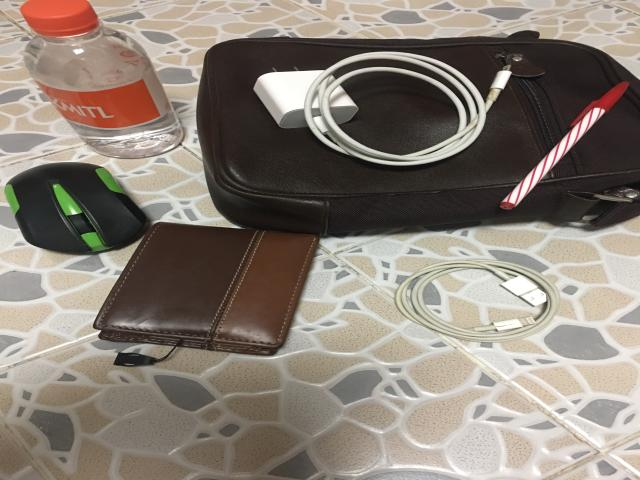Mouse: (5, 162, 147, 253)
Pen: (500, 82, 628, 210)
Wallet: (93, 222, 318, 355)
bottle: (20, 0, 183, 158)
wire: (253, 52, 525, 166), (395, 260, 560, 342)
